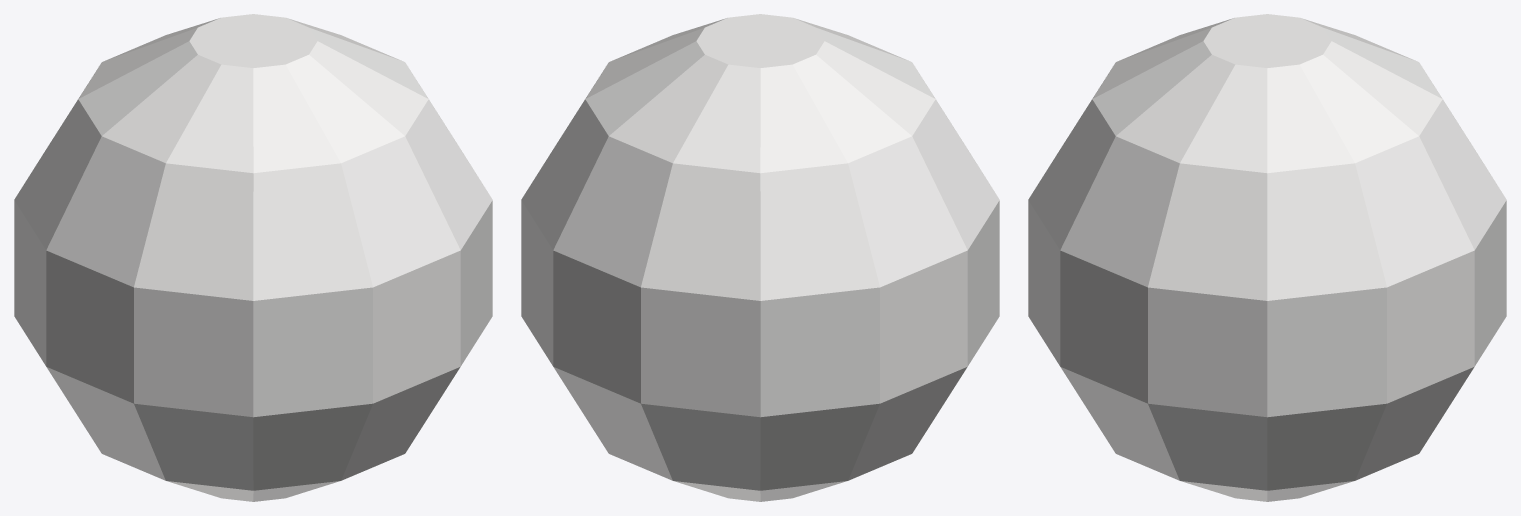
The model's file is GolfBall.fbx.
3 renders of one model, left to right at view 1: azimuth 30°, elevation 25°; view 2: azimuth 150°, elevation 25°; view 3: azimuth 270°, elevation 25°, orthographic.
Parts seen in each view (by area): view 1: GolfBall; view 2: GolfBall; view 3: GolfBall.
Part boxes in pixels (x1=…): GolfBall: x1=14, y1=14, x2=492, y2=501; GolfBall: x1=521, y1=14, x2=999, y2=501; GolfBall: x1=1028, y1=14, x2=1506, y2=501.
Size of the model in its own units: 88.17 by 88.17 by 88.17.
